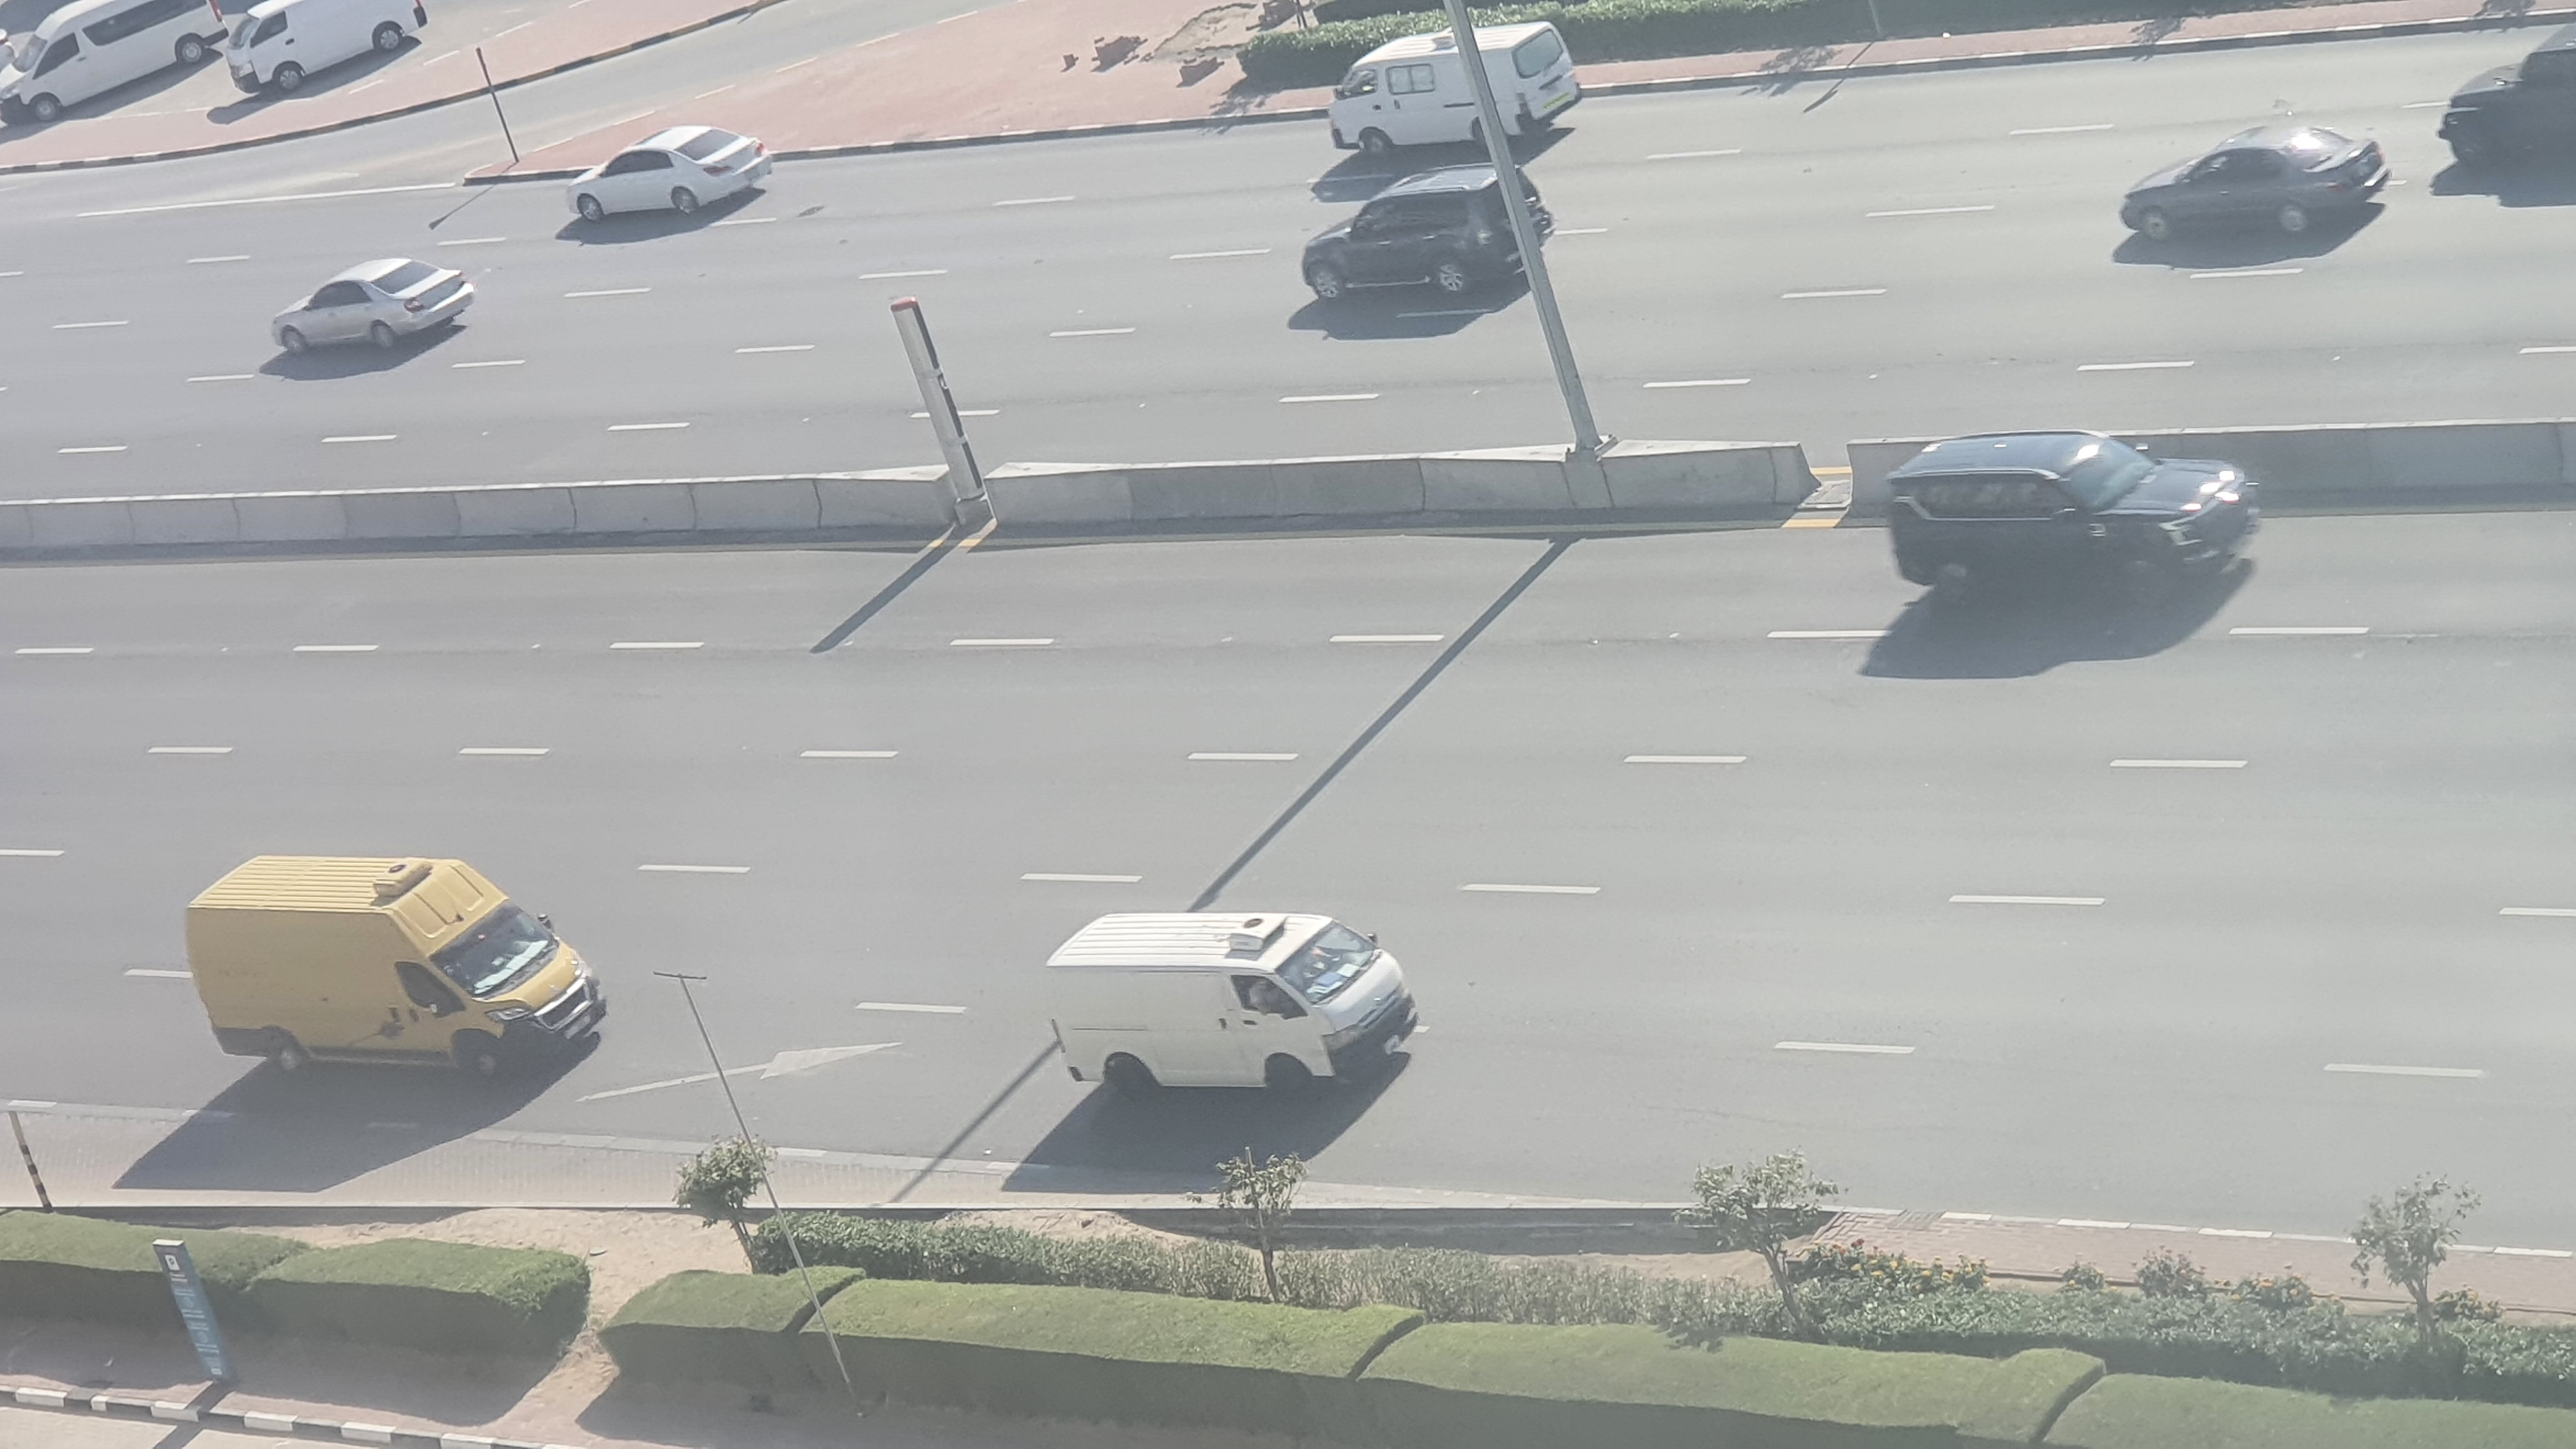Sunroof: (1888, 430, 2261, 605)
